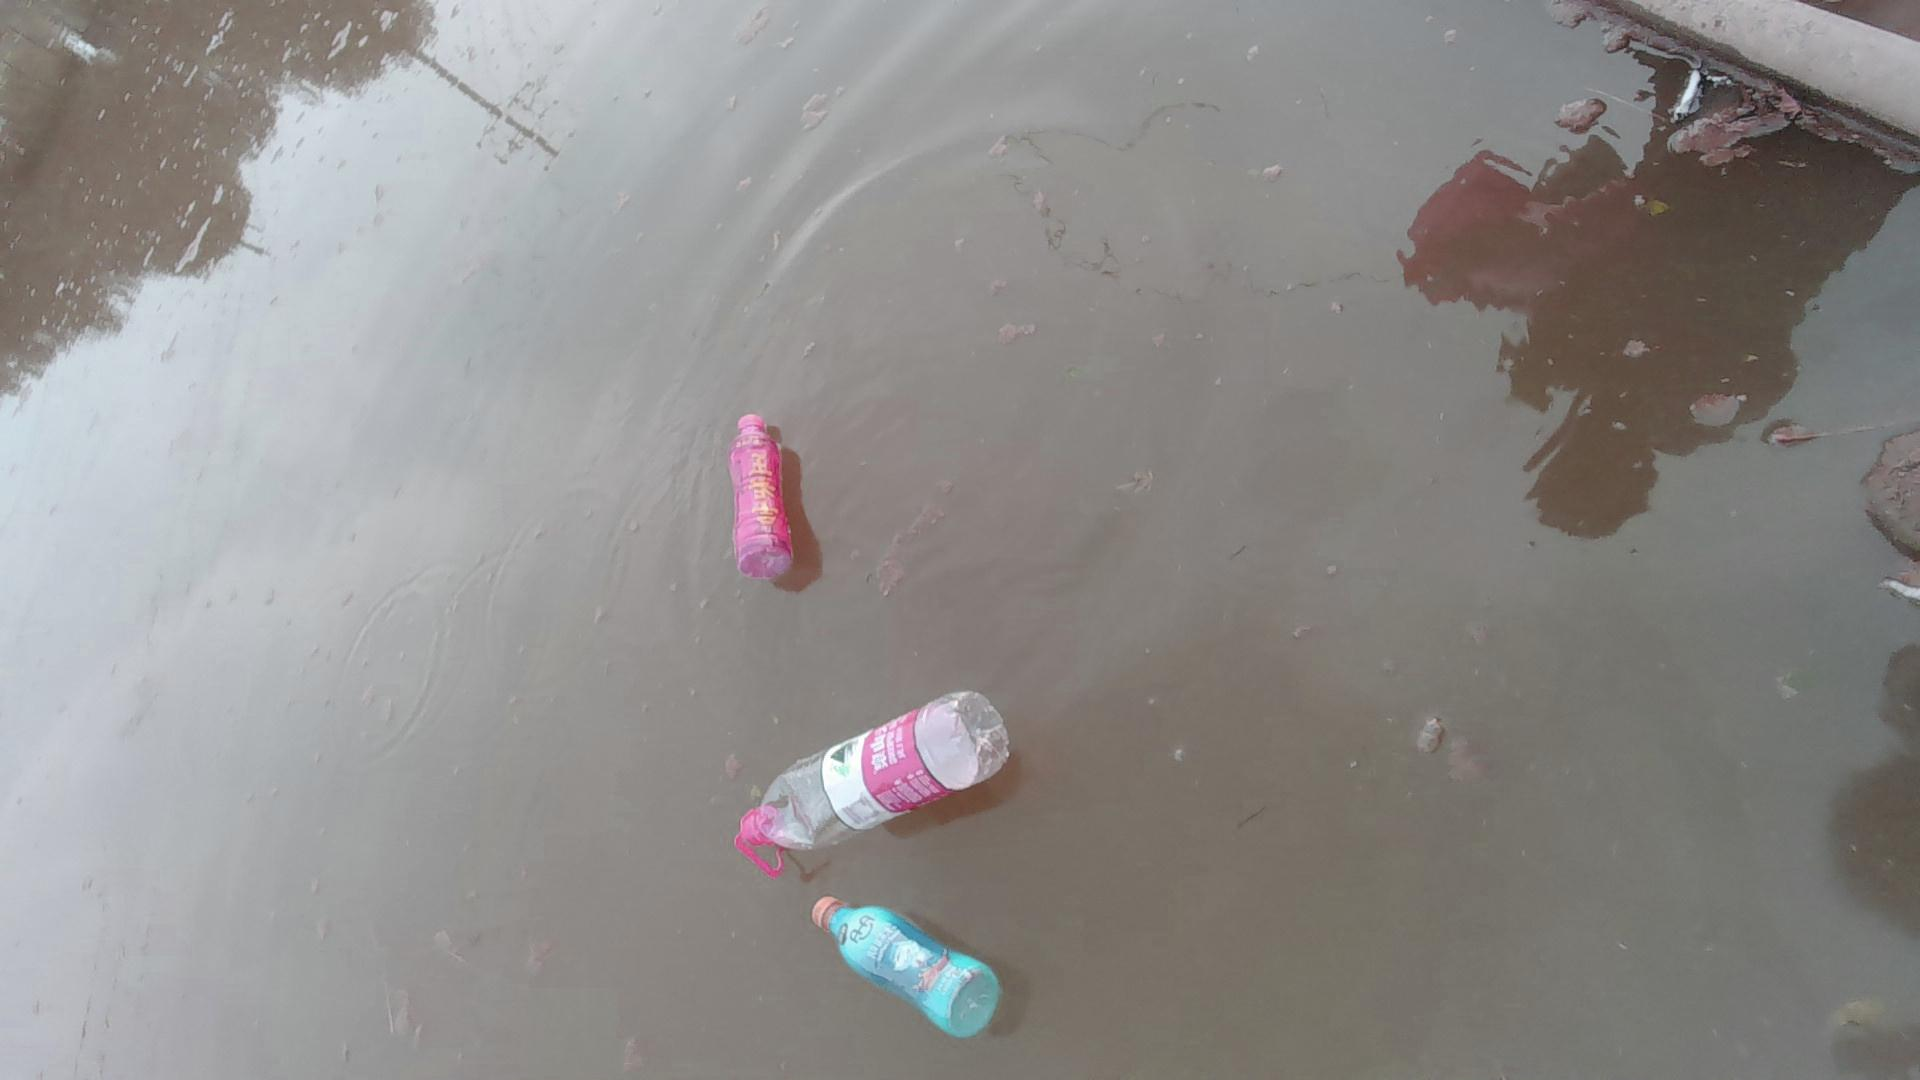Plastic: (727, 688, 1014, 884), (800, 894, 1023, 1035), (716, 397, 800, 591)
